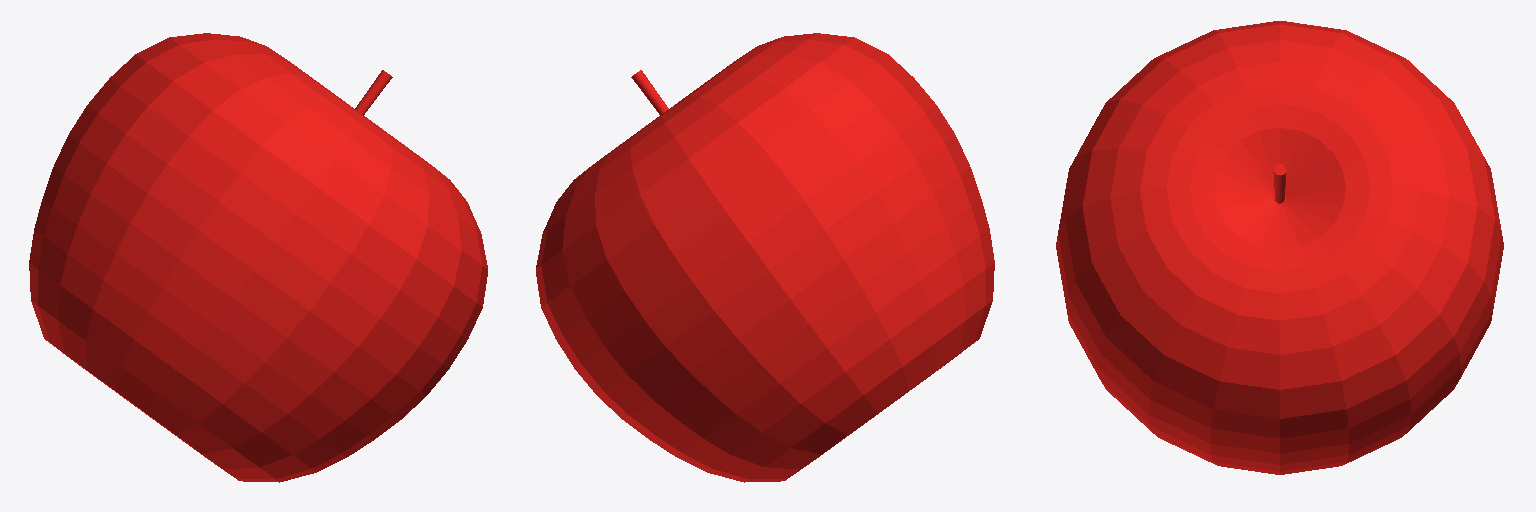
Rendered from red_apple.obj.
3 renders of one model, left to right at view 1: azimuth 30°, elevation 25°; view 2: azimuth 150°, elevation 25°; view 3: azimuth 270°, elevation 25°, orthographic.
Visible parts, largest first — view 1: pSphere1; view 2: pSphere1; view 3: pSphere1.
Part boxes in pixels (bbox=[...]): pSphere1: bbox=[29, 33, 487, 482]; pSphere1: bbox=[536, 33, 994, 482]; pSphere1: bbox=[1056, 21, 1503, 474].
Size of the model in its own units: 1.99 by 1.98 by 1.95.